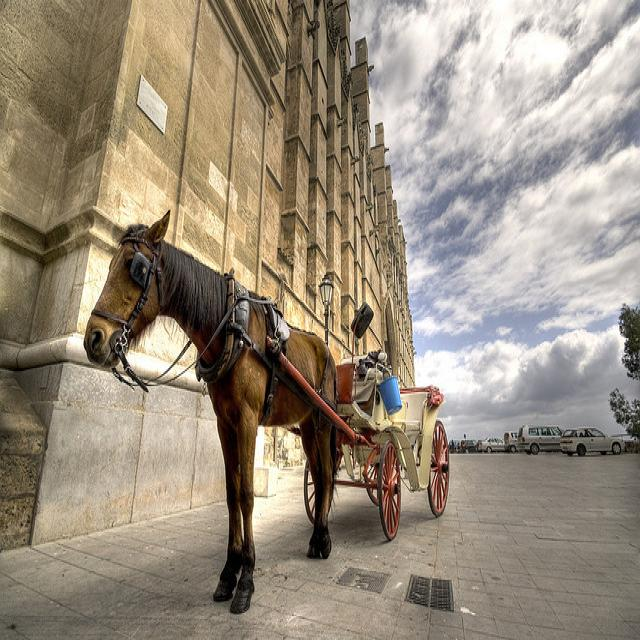Vehicle: (560, 426, 626, 457), (518, 426, 562, 456), (477, 437, 505, 454), (504, 432, 520, 452), (461, 439, 477, 449), (448, 440, 461, 452)
